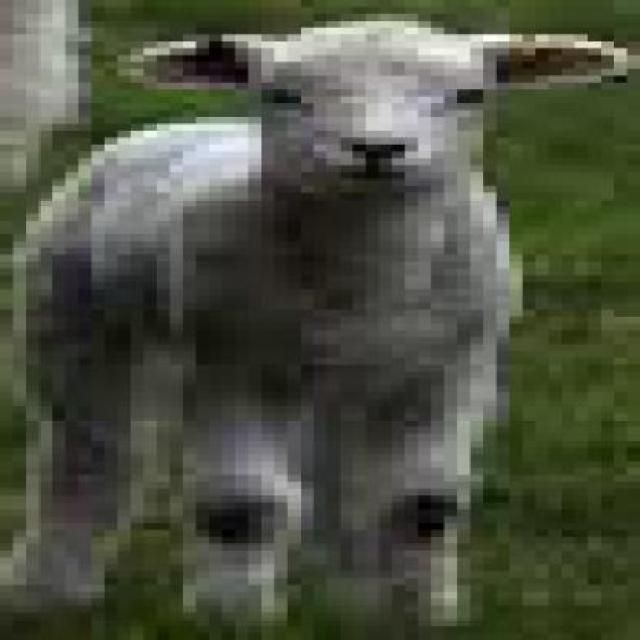Sheep: (0, 8, 628, 634)
